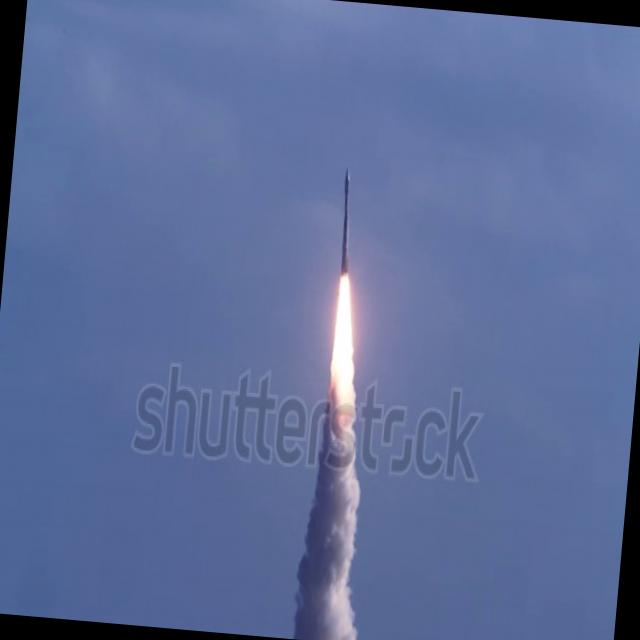rocket: (312, 161, 374, 483)
